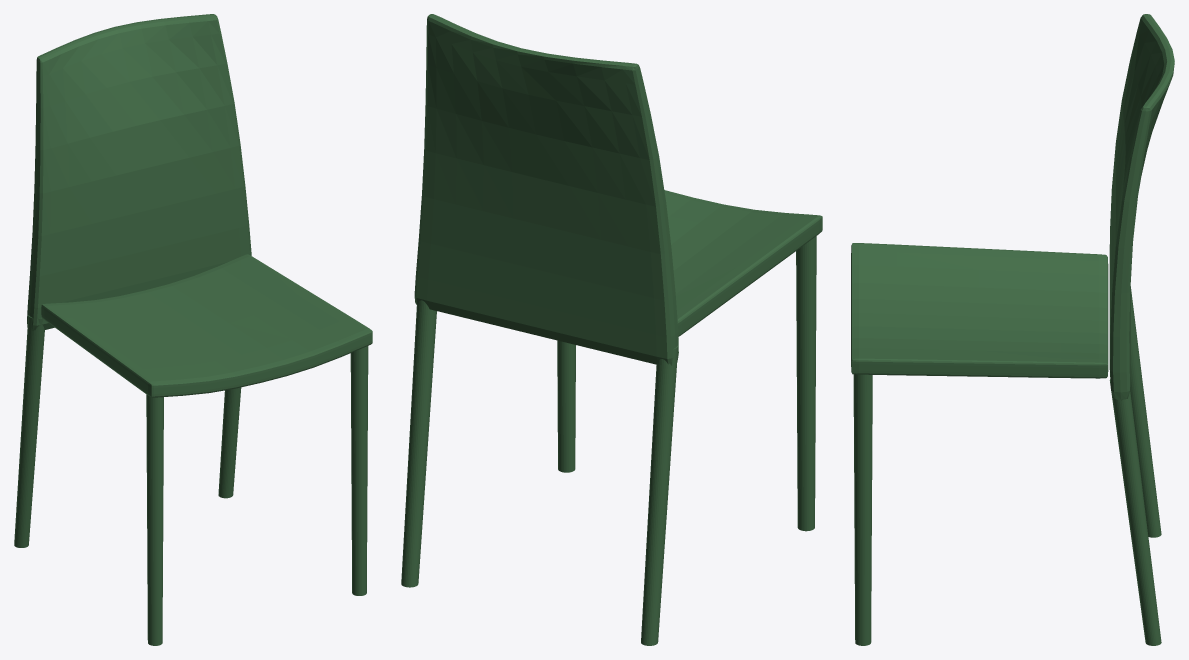
The model's file is chair3.obj.
3 views of the same model, side by side, from view 1: azimuth 30°, elevation 25°; view 2: azimuth 150°, elevation 25°; view 3: azimuth 270°, elevation 25° (orthographic). The views are drawn at different scales.
Parts seen in each view (by area): view 1: Cube.013_Cube.021, Plane.009_Plane.015, Cylinder.013_Cylinder.018; view 2: Cube.013_Cube.021, Cylinder.013_Cylinder.018, Plane.009_Plane.015; view 3: Plane.009_Plane.015, Cylinder.013_Cylinder.018, Cube.013_Cube.021.
Boxes of the visible parts, x1,y1,x2,y2 form: Cube.013_Cube.021: (27, 14, 251, 330); Plane.009_Plane.015: (41, 254, 372, 397); Cylinder.013_Cylinder.018: (14, 315, 368, 645); Cube.013_Cube.021: (414, 14, 678, 365); Cylinder.013_Cylinder.018: (401, 236, 816, 645); Plane.009_Plane.015: (664, 190, 822, 336); Plane.009_Plane.015: (851, 243, 1108, 378); Cylinder.013_Cylinder.018: (853, 286, 1161, 645); Cube.013_Cube.021: (1109, 14, 1174, 400).
Bounding box in the file's own units: 43.35 × 90.64 × 50.35.
